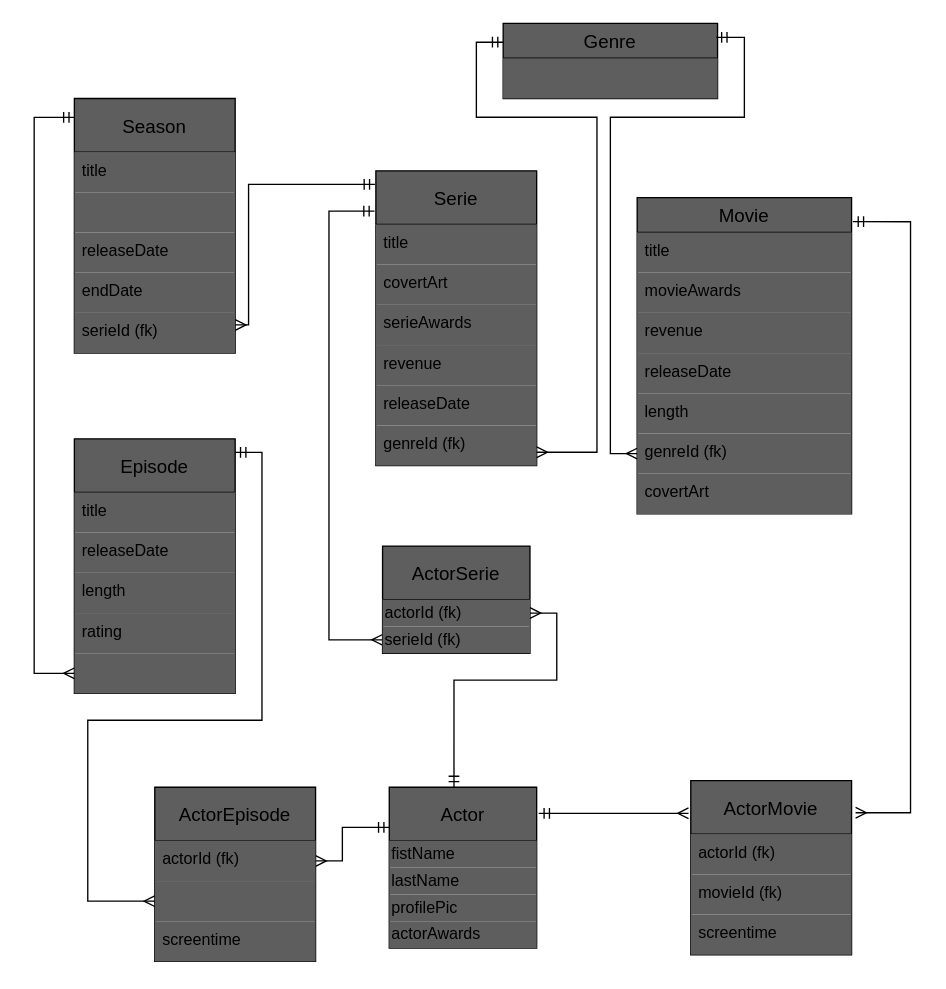
Some shapes in this 946 by 989 pixel diagram are drawn without their labels. The centre of each missing label's shape, as x and y in pixels:
"episodeId (fk)" belongs at (x=234, y=900).
"maxRating" belongs at (x=154, y=212).
"name" belongs at (x=610, y=78).
"seasonId" belongs at (x=154, y=673).
